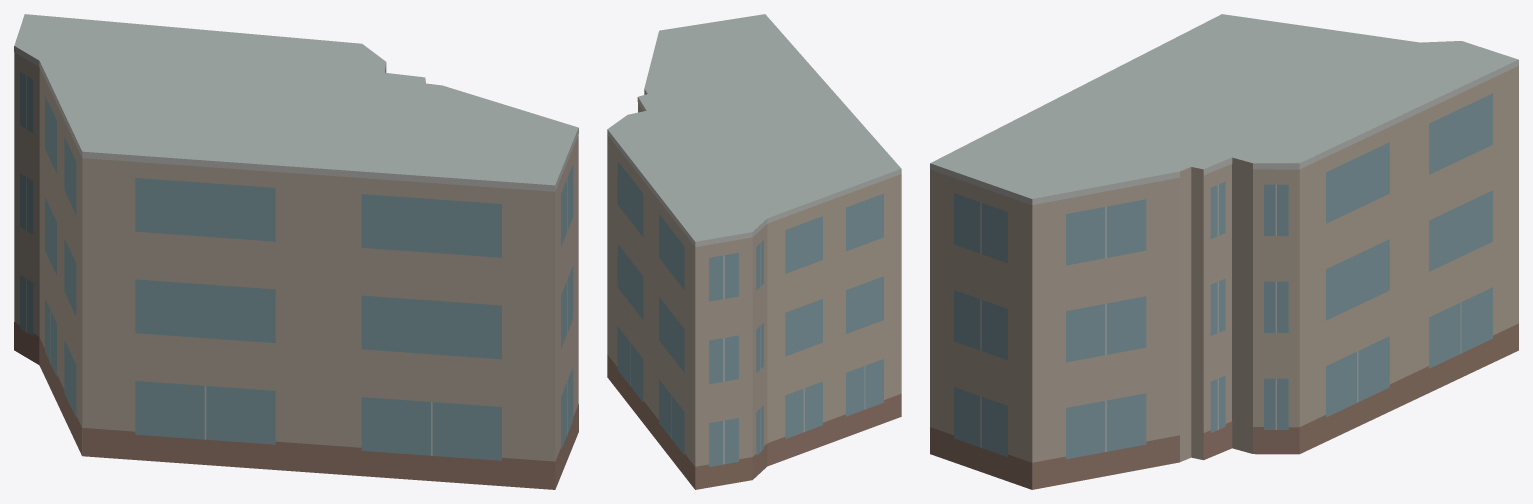
Rendered from survey-upis-32756184.glb.
The picture shows the model from 3 angles, left to right: view 1: azimuth 30°, elevation 25°; view 2: azimuth 150°, elevation 25°; view 3: azimuth 270°, elevation 25°; orthographic projection. The views are drawn at different scales.
Parts seen in each view (by area): view 1: survey-upis-32756184.tmp; view 2: survey-upis-32756184.tmp; view 3: survey-upis-32756184.tmp.
Boxes of the visible parts, <box> form: survey-upis-32756184.tmp: <box>14,14,578,489</box>; survey-upis-32756184.tmp: <box>607,14,901,489</box>; survey-upis-32756184.tmp: <box>930,14,1518,489</box>.
Bounding box in the file's own units: 15.7 × 11.5 × 21.11.
